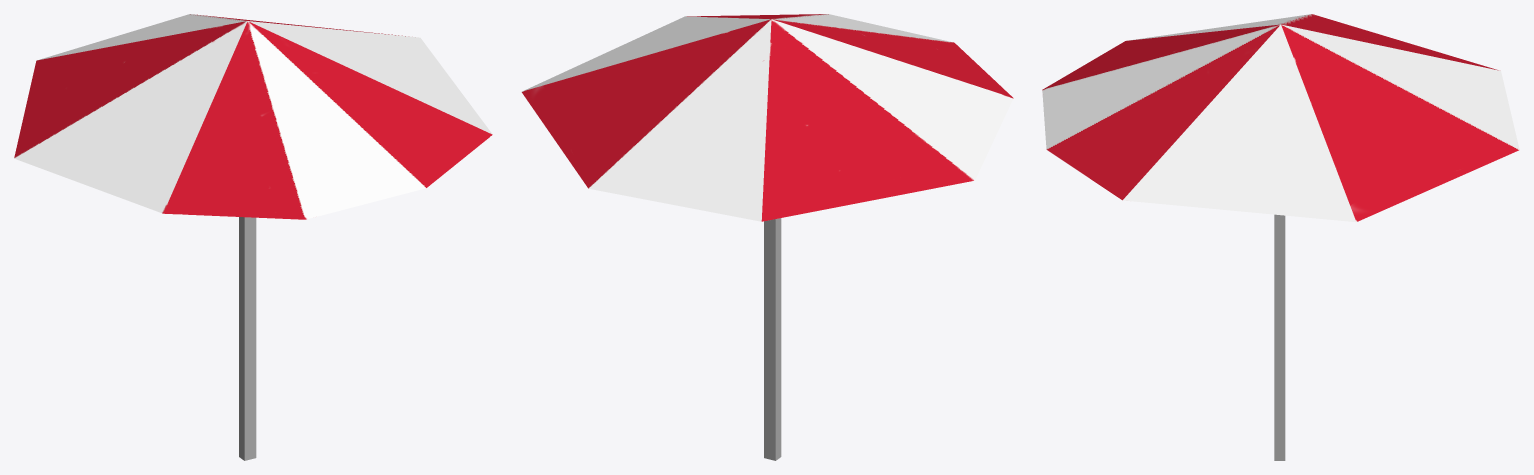
File: beachumbrella.glb
3 views of the same model, side by side, from view 1: azimuth 30°, elevation 25°; view 2: azimuth 150°, elevation 25°; view 3: azimuth 270°, elevation 25° (orthographic).
Visible parts, largest first — view 1: Cone, Cube; view 2: Cone, Cube; view 3: Cone, Cube.
Boxes of the visible parts, bbox=[...] form: Cone: bbox=[14, 14, 492, 219]; Cube: bbox=[239, 217, 256, 460]; Cone: bbox=[521, 14, 1013, 221]; Cube: bbox=[764, 218, 781, 460]; Cone: bbox=[1042, 14, 1519, 222]; Cube: bbox=[1274, 214, 1285, 460].
Bounding box in the file's own units: 4.76 × 4.63 × 4.61.
2 materials, 1 textured.
